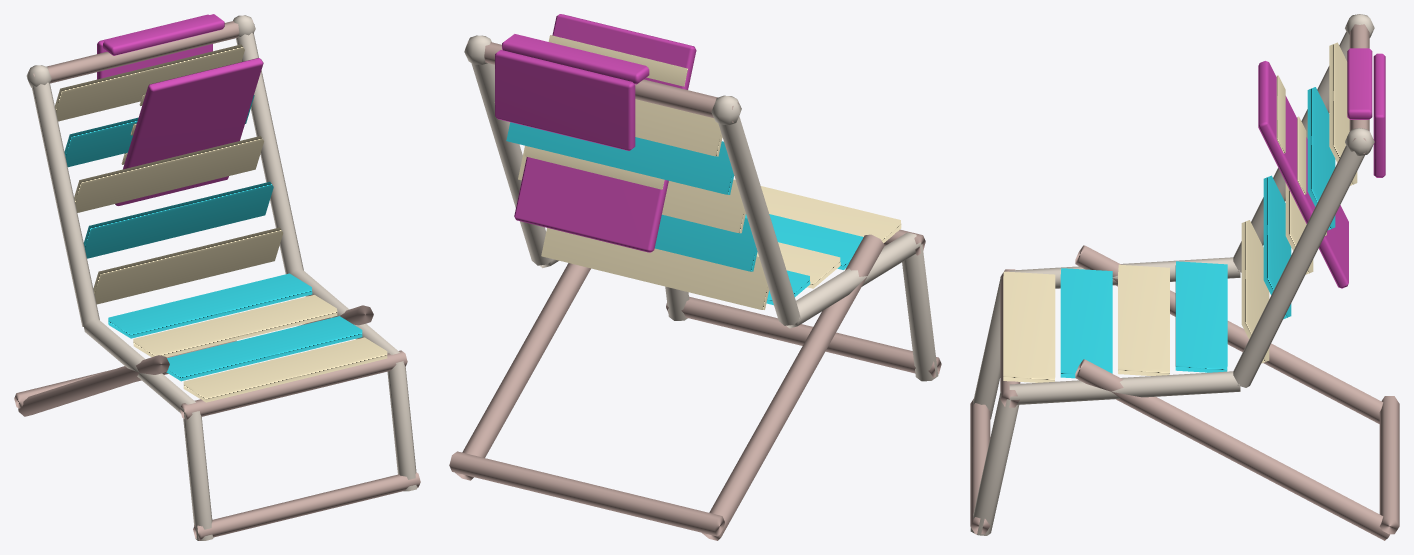
Rendered from deck_chair.glb.
3 renders of one model, left to right at view 1: azimuth 30°, elevation 25°; view 2: azimuth 150°, elevation 25°; view 3: azimuth 270°, elevation 25°, orthographic. The views are drawn at different scales.
Parts seen in each view (by area): view 1: Chair; view 2: Chair; view 3: Chair.
Boxes of the visible parts, left/top/right/bottom form: Chair: left=14, top=14, right=420, bottom=540; Chair: left=449, top=14, right=941, bottom=540; Chair: left=970, top=14, right=1399, bottom=540.
Size of the model in its own units: 0.6 by 0.9191 by 0.86.
